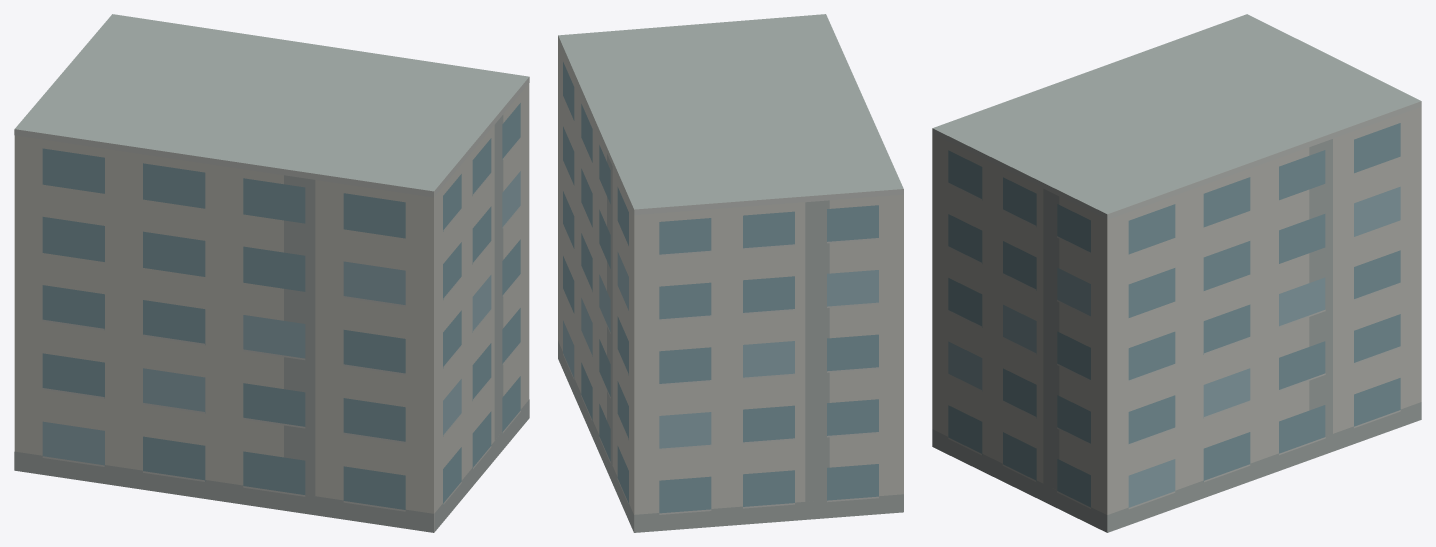
File: survey-upis-32957494.glb
3 views of the same model, side by side, from view 1: azimuth 30°, elevation 25°; view 2: azimuth 150°, elevation 25°; view 3: azimuth 270°, elevation 25° (orthographic). The views are drawn at different scales.
Visible parts, largest first — view 1: survey-upis-32957494.tmp; view 2: survey-upis-32957494.tmp; view 3: survey-upis-32957494.tmp.
Boxes of the visible parts, bbox=[...] form: survey-upis-32957494.tmp: bbox=[14, 14, 529, 532]; survey-upis-32957494.tmp: bbox=[558, 14, 903, 532]; survey-upis-32957494.tmp: bbox=[932, 14, 1421, 532].
Bounding box in the file's own units: 18.35 × 13.6 × 18.93.
